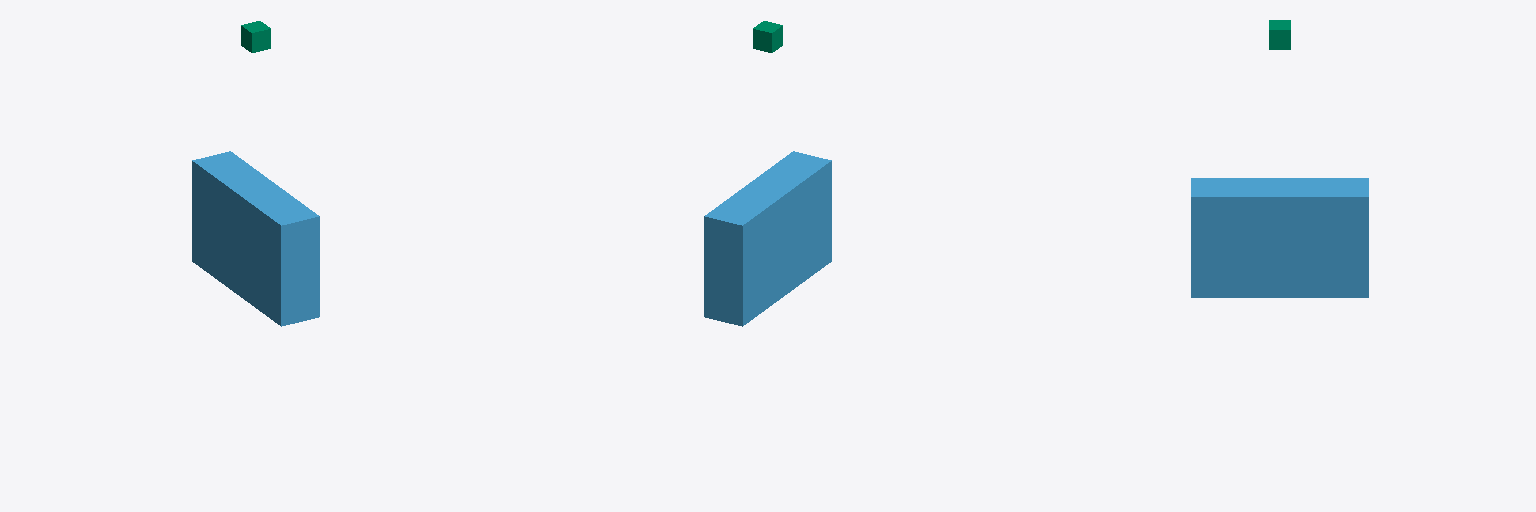
The robot description file, URDF, robot "test_model":
<robot name="test_model">
  
  <material name="blue">
    <color rgba="0 0 0.8 1"/>
  </material>

  <!-- root link, on the ground just below the model origin -->
  <link name="base_footprint">
   <visual>
      <origin xyz="0 0 0" rpy="0 0 0" />
      <geometry>
        <box size="0.001 0.001 0.001" />
      </geometry>
    </visual>
  </link>

  <joint name="base_link_joint" type="fixed">
    <origin xyz="0.0 0 1.25" rpy="0 0 0" />
    <parent link="base_footprint"/>
    <child link="base_link" />
  </joint>

  <!-- the model -->
  <link name="base_link">
    <inertial>
      <mass value="50" />
      <origin xyz="0 0 -1.25" />
      <inertia ixx="50.0" ixy="0.0" ixz="0.0"
        iyy="50.0" iyz="0.0"
        izz="50.0" />
    </inertial>
    <visual>
      <geometry>
        <box size="0.2 0.8 .5" /> <!-- does not need to match collision -->
      </geometry>
    </visual>
    <collision>
      <origin xyz="0 0 -1.0" />
      <geometry>
        <cylinder length="0.5" radius="0.25" />
      </geometry>
    </collision>
  </link>

    <joint name="camera_joint" type="fixed">
    <axis xyz="0 1 0" />
    <origin xyz="0 0 1" rpy="0 0 0"/>
    <parent link="base_link"/>
    <child link="camera_link"/>
  </joint>

  <!-- Camera -->
  <link name="camera_link">
    <collision>
      <origin xyz="0 0 0" rpy="0 0 0"/>
      <geometry>
    <box size=".1 .1 .1"/> 
      </geometry>
    </collision>

    <visual>
      <origin xyz="0 0 0" rpy="0 0 0"/>
      <geometry>
    <box size=".1 .1 .1"/>
      </geometry>
      <material name="red"/>
    </visual>

    <inertial>
      <mass value="1e-5" />
      <origin xyz="0 0 0" rpy="0 0 0"/>
      <inertia ixx="1e-6" ixy="0" ixz="0" iyy="1e-6" iyz="0" izz="1e-6" />
    </inertial>
  </link>

  <gazebo>
    <plugin name="object_controller" filename="libgazebo_ros_planar_move.so">
      <commandTopic>cmd_vel</commandTopic>
      <odometryTopic>odom</odometryTopic>
      <odometryFrame>odom</odometryFrame>
      <odometryRate>20.0</odometryRate>
      <robotBaseFrame>base_footprint</robotBaseFrame>
    </plugin>
  </gazebo>

   <gazebo reference="camera_link">
    <sensor type="camera" name="camera1">
      <update_rate>30.0</update_rate>
      <camera name="head">
        <horizontal_fov>1.3962634</horizontal_fov>
        <image>
          <width>800</width>
          <height>800</height>
          <format>R8G8B8</format>
        </image>
        <clip>
          <near>0.02</near>
          <far>300</far>
        </clip>
        <noise>
          <type>gaussian</type>
          <!-- Noise is sampled independently per pixel on each frame.
               That pixel's noise value is added to each of its color
               channels, which at that point lie in the range [0,1]. -->
          <mean>0.0</mean>
          <stddev>0.007</stddev>
        </noise>
      </camera>
      <plugin name="camera_controller" filename="libgazebo_ros_camera.so">
        <alwaysOn>true</alwaysOn>
        <updateRate>0.0</updateRate>
        <cameraName>floatinghead/camera1</cameraName>
        <imageTopicName>image_raw</imageTopicName>
        <cameraInfoTopicName>camera_info</cameraInfoTopicName>
        <frameName>camera_link</frameName>
        <hackBaseline>0.07</hackBaseline>
        <distortionK1>0.0</distortionK1>
        <distortionK2>0.0</distortionK2>
        <distortionK3>0.0</distortionK3>
        <distortionT1>0.0</distortionT1>
        <distortionT2>0.0</distortionT2>
      </plugin>
    </sensor>
  </gazebo>
  
  <joint name="laser_joint" type="fixed">
        <axis xyz="0 1 0" />
        <origin xyz="0 0 -0.2" rpy="0 0 0"/>    
        <parent link="base_link"/>
        <child link="laser_link"/>
    </joint>

    <link name="laser_link">
     <collision>
      <origin xyz="0 0 0" rpy="0 0 0"/>
      <geometry>
    <sphere radius=".2"/>
      </geometry>
    </collision>
      
       <visual>
      <origin xyz="0 0 0" rpy="0 0 0"/>
      <geometry>
    <mesh filename="package://floatinghead_description/meshes/lidar.dae"/>
      </geometry>
      <material name="red"/>
    </visual>
    </link>

    <gazebo reference="laser_link">
     <sensor type="gpu_ray" name="head_hokuyo_sensor">
      <pose>0 0 0 0 0 0</pose>
      <visualize>true</visualize>
      <update_rate>40</update_rate>
      <ray>
        <scan>
          <horizontal>
            <samples>720</samples>
            <resolution>1</resolution>
            <min_angle>-1.570796</min_angle>
            <max_angle>1.570796</max_angle>
          </horizontal>
        </scan>
        <range>
          <min>0.10</min>
          <max>30.0</max>
          <resolution>0.01</resolution>
        </range>
        <noise>
          <type>gaussian</type>
          <!-- Noise parameters based on published spec for Hokuyo laser
               achieving "+-30mm" accuracy at range < 10m.  A mean of 0.0m and
               stddev of 0.01m will put 99.7% of samples within 0.03m of the true
               reading. -->
          <mean>0.0</mean>
          <stddev>0.01</stddev>
        </noise>
      </ray>
      <plugin name="gazebo_ros_head_hokuyo_controller" filename="libgazebo_ros_gpu_laser.so">
        <topicName>/scan</topicName>
        <frameName>laser_link</frameName>
      </plugin>
    </sensor>
  </gazebo>

</robot>

--- Facts derived from the render (not from the file) ---
The picture shows the robot from 3 angles, left to right: view 1: azimuth 30°, elevation 25°; view 2: azimuth 150°, elevation 25°; view 3: azimuth 270°, elevation 25°; orthographic projection.
Model test_model with 4 links and 3 joints (3 fixed), rooted at base_footprint, posed all joints at 0.
Visible links, largest first — view 1: base_link, camera_link; view 2: base_link, camera_link; view 3: base_link, camera_link.
Link boxes in pixels (<box>): base_link: <box>192,151,319,326</box>; camera_link: <box>241,21,270,52</box>; base_link: <box>704,151,831,326</box>; camera_link: <box>753,21,782,52</box>; base_link: <box>1191,178,1368,297</box>; camera_link: <box>1269,20,1290,49</box>.
Size in the robot's own frame: 0.2 by 0.8 by 2.3 metres.
0 mesh visuals loaded from 1 distinct referenced files (none loaded); not drawn: 1 (reference not matched to a file when rendering).